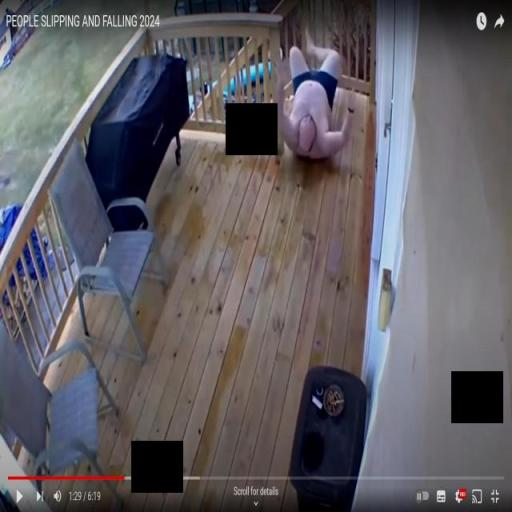Fall: (271, 23, 358, 167)
